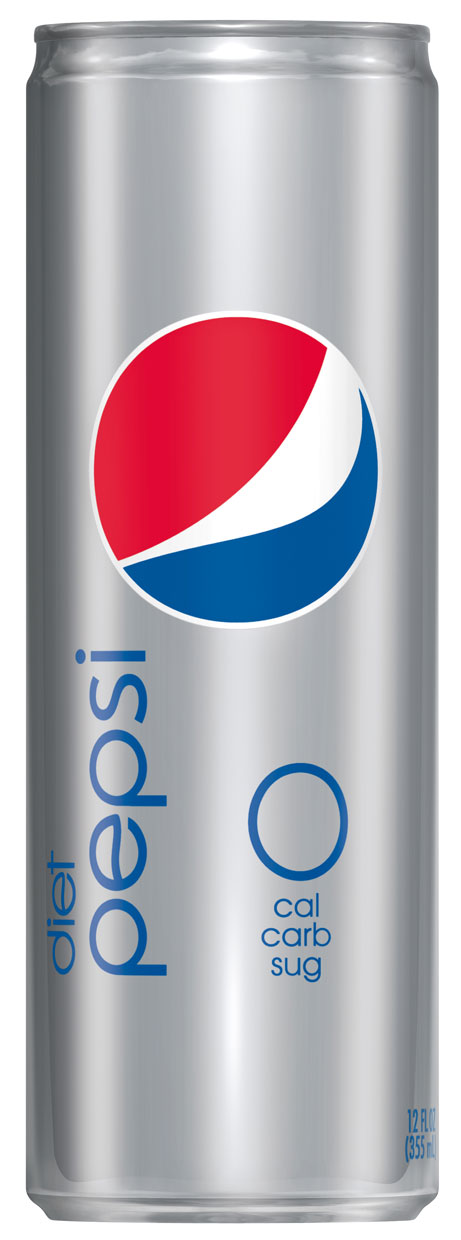pepsi: (94, 310, 378, 622)
